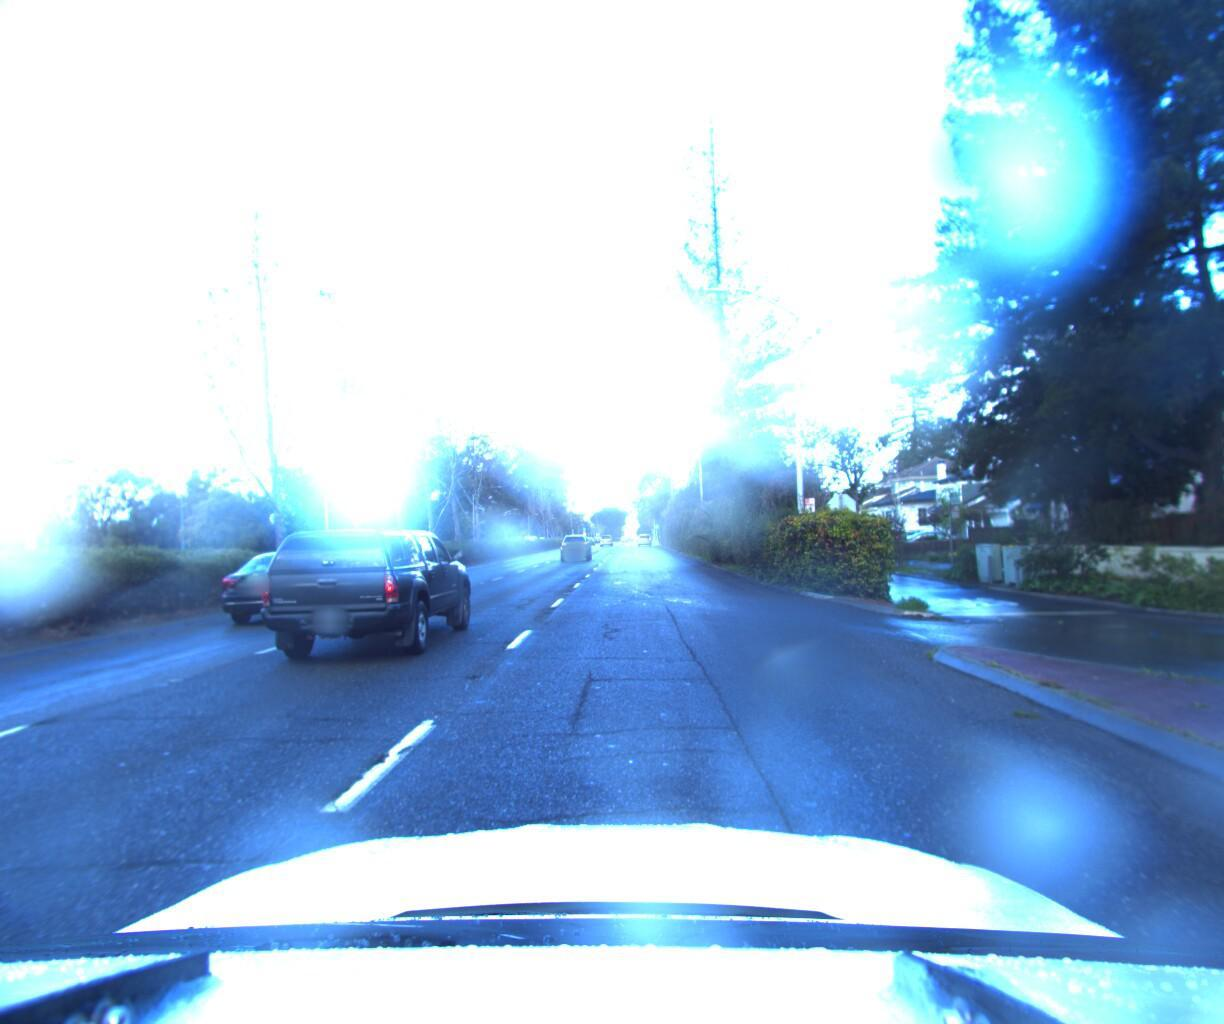car: (249, 521, 486, 673), (202, 545, 364, 623), (557, 529, 594, 558)
